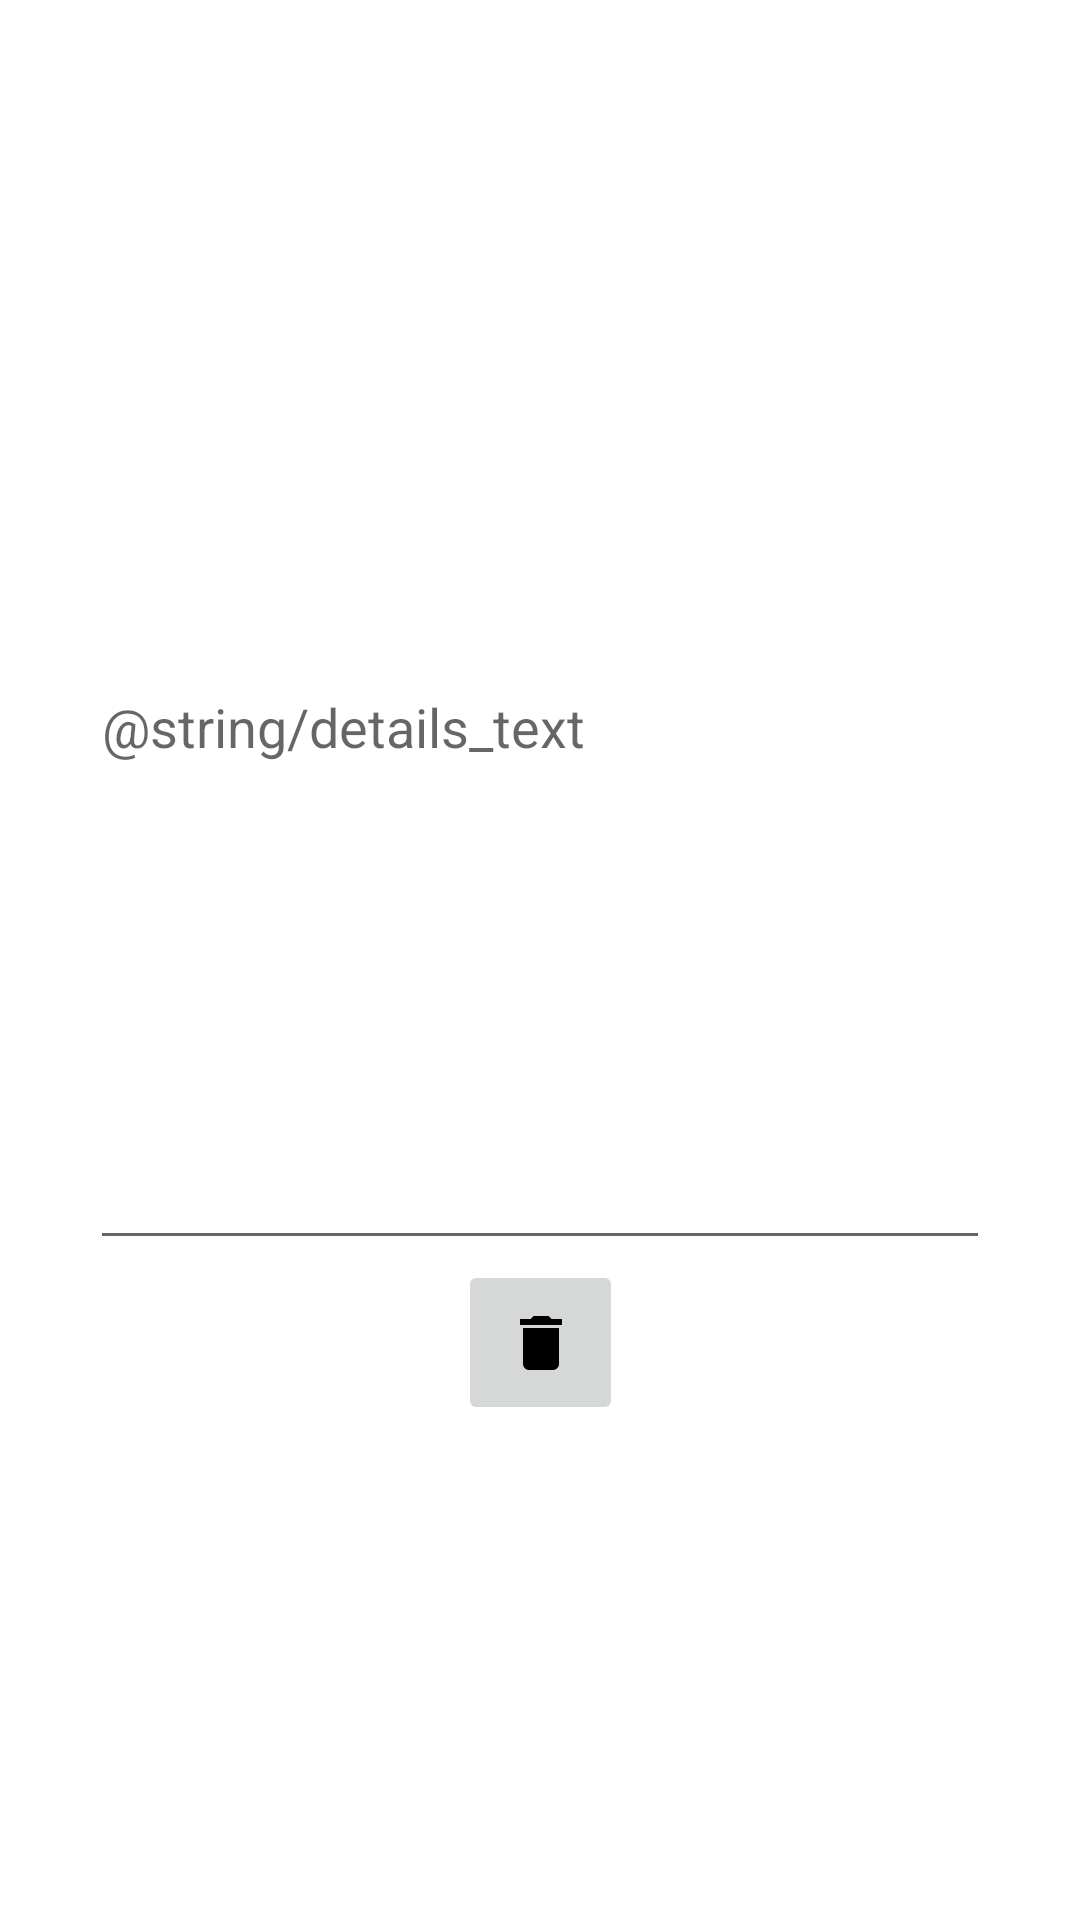

Locate icon controls on the screen. Image size 1080 × 1920, boxes as bbox=(x1, y1, x2, y2).
delete: bbox=(470, 1278, 611, 1407)
